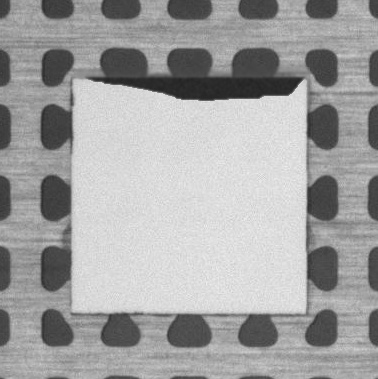DIE_BROKEN: (92, 71, 305, 101)
